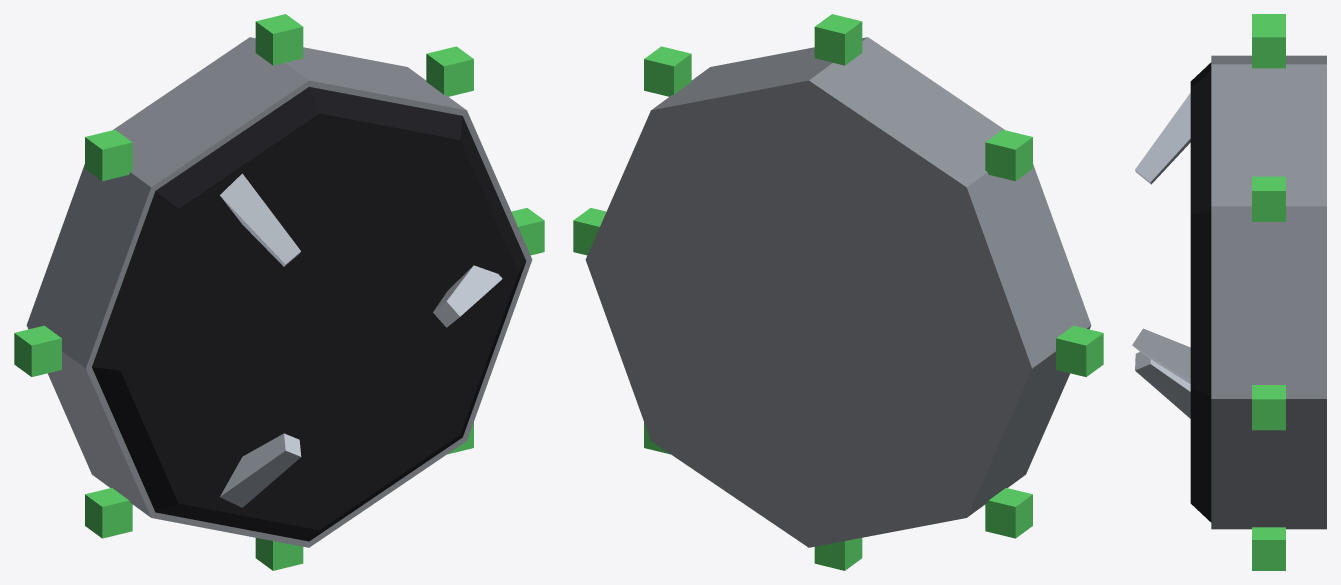
File: ship_docking_collar.obj
3 views of the same model, side by side, from view 1: azimuth 30°, elevation 25°; view 2: azimuth 150°, elevation 25°; view 3: azimuth 270°, elevation 25° (orthographic). The views are drawn at different scales.
Visible parts, largest first — view 1: seal, collar, leds, hooks; view 2: collar, leds; view 3: collar, seal, leds, hooks.
Part boxes in pixels (x1,y1,x2,y2): seal: [92, 87, 526, 541]; collar: [26, 37, 532, 547]; leds: [14, 14, 544, 570]; hooks: [220, 173, 502, 507]; collar: [585, 37, 1091, 547]; leds: [573, 14, 1103, 570]; collar: [1211, 55, 1326, 529]; seal: [1190, 62, 1211, 522]; leds: [1252, 14, 1285, 570]; hooks: [1132, 93, 1190, 418].
Size of the model in its own units: 1.7 by 1.7 by 0.5725.
